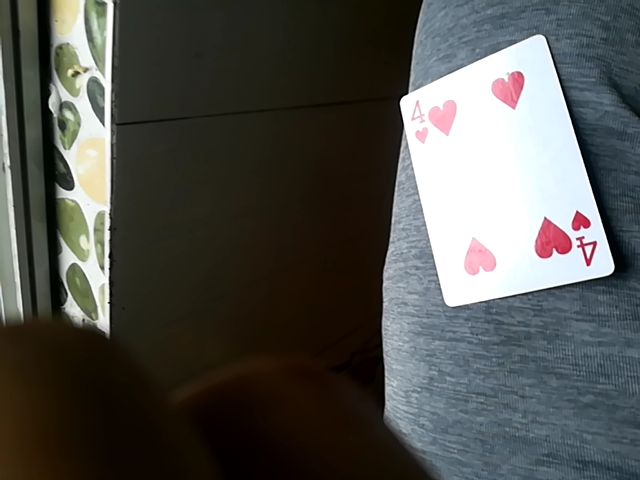hx 4: (397, 30, 613, 309)
